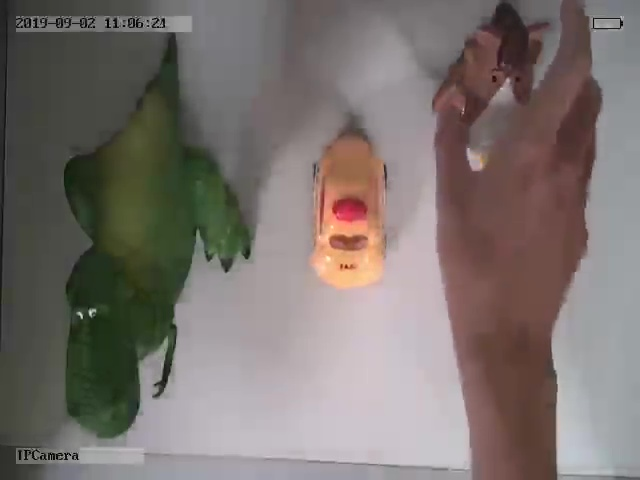car: (310, 131, 388, 291)
rex: (61, 45, 253, 440)
